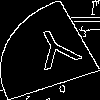Y: (25, 25, 89, 80)
